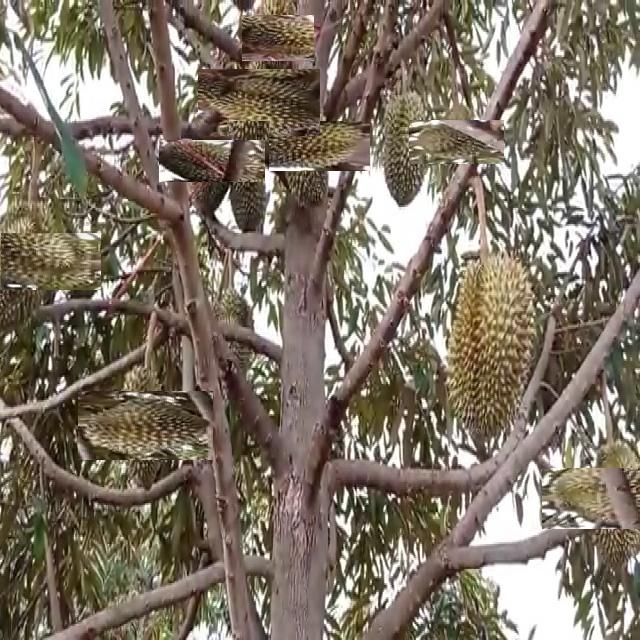durian: (444, 242, 541, 446), (94, 375, 197, 477), (212, 55, 307, 150), (0, 211, 80, 311), (561, 449, 640, 547), (264, 102, 351, 190), (378, 86, 432, 210), (203, 284, 256, 390), (174, 124, 249, 198), (422, 107, 492, 177), (229, 121, 269, 238), (248, 8, 307, 68)
